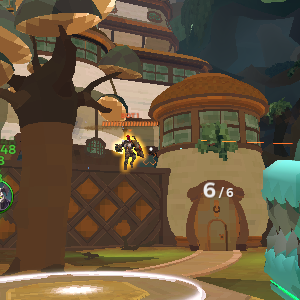model: (117, 133, 143, 170)
